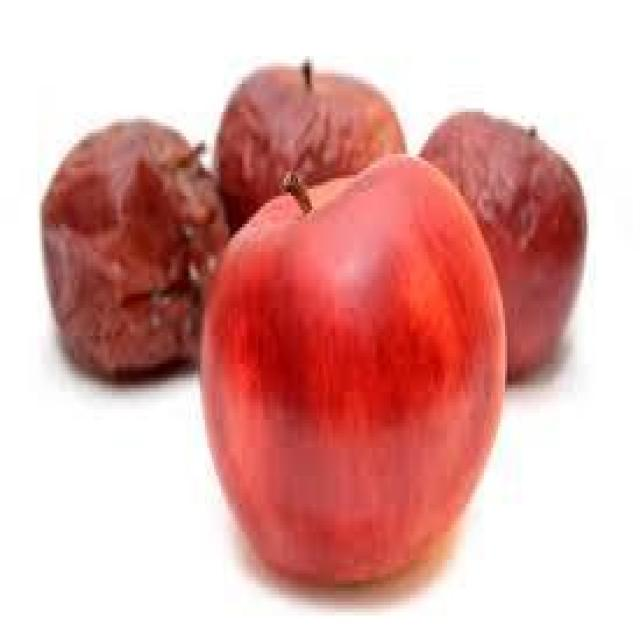maca: (198, 150, 507, 584), (37, 116, 228, 382), (416, 105, 586, 381), (212, 56, 405, 227)
